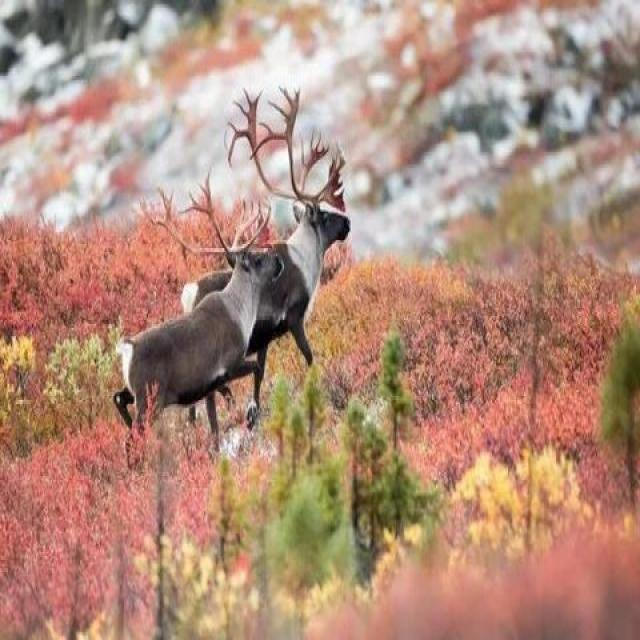deer: (162, 142, 380, 415), (80, 210, 282, 493)
